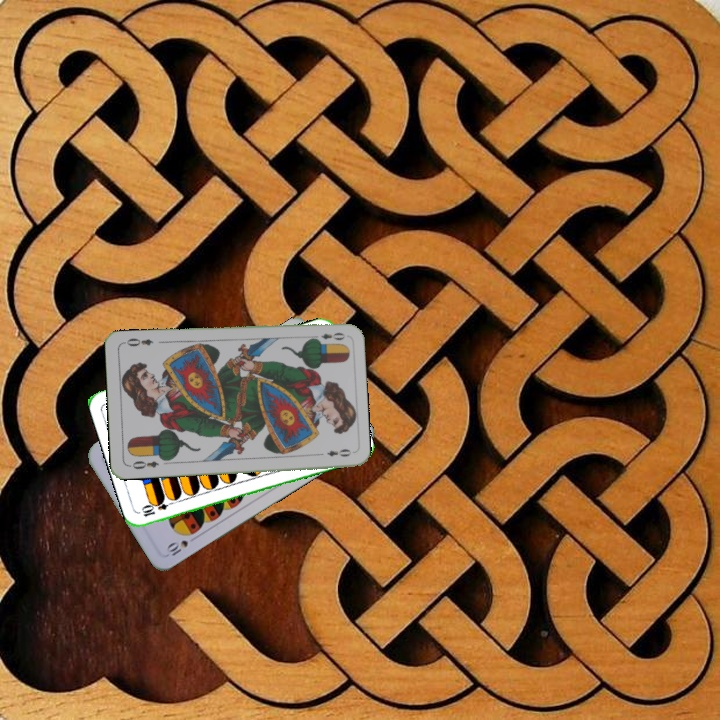E10: (138, 496, 178, 520)
EO: (308, 328, 348, 344), (125, 457, 161, 472)
S10: (162, 536, 191, 559)
